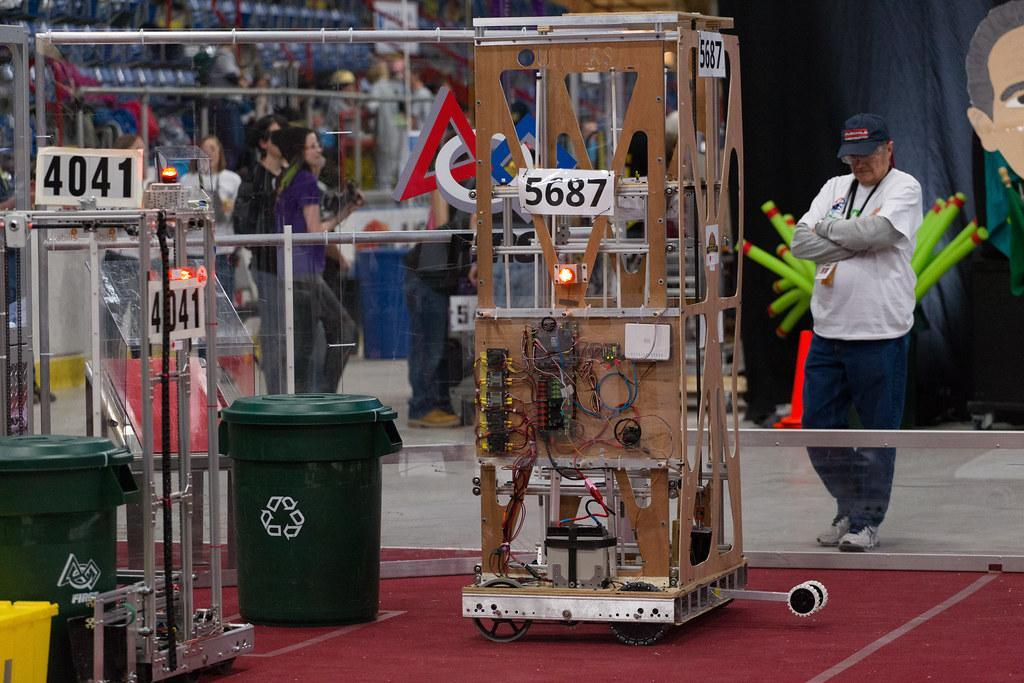robot: (433, 4, 837, 660), (0, 143, 260, 677)
